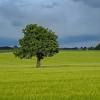field: (2, 53, 100, 99)
sky: (1, 1, 100, 47)
tree: (16, 24, 62, 70)
